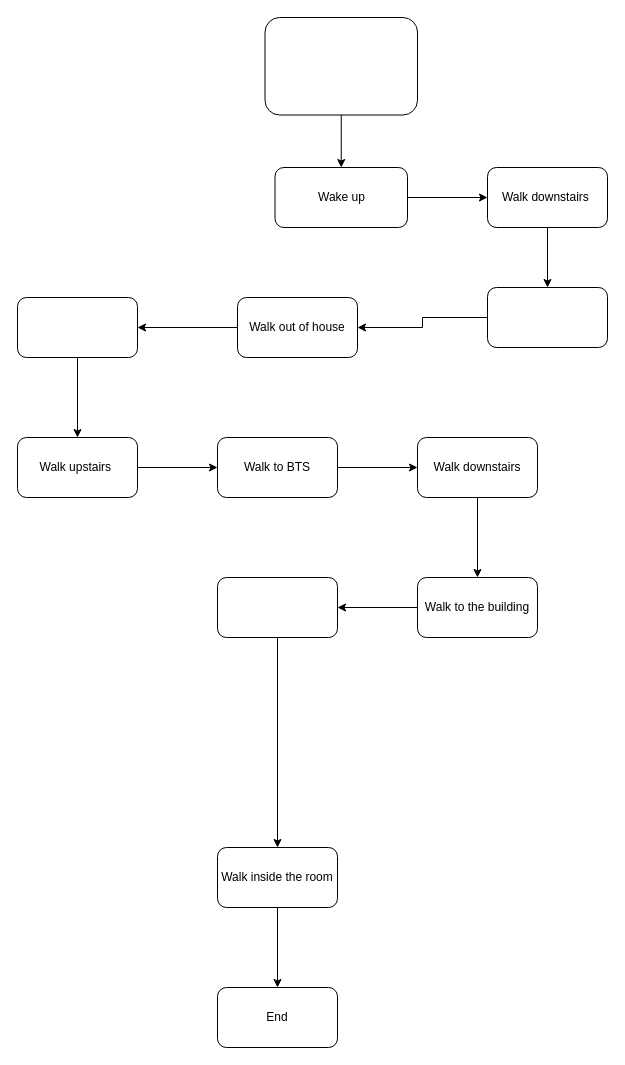
The diagram is 625 pixels wide and 1065 high, and some of its shapes have lost their labels. Here are the shapes that lost their labels. From the top down, the box of each, then its label:
(264, 16, 418, 115): Start
(16, 296, 138, 358): Walk to car
(486, 286, 608, 348): Shower and clean
(216, 576, 338, 638): Walk inside school
